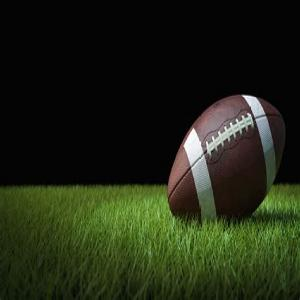Rugby: (168, 92, 285, 225)
